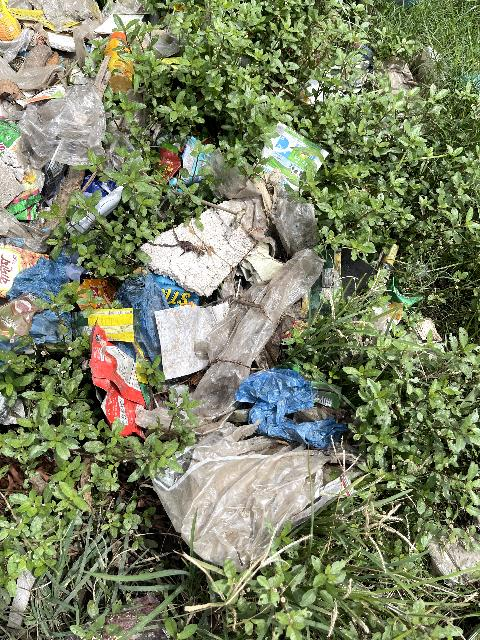polythene: (149, 154, 375, 548)
